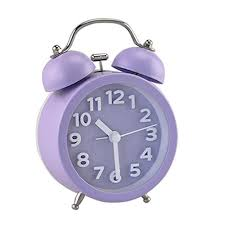alarm_clock: (35, 13, 178, 207), (41, 13, 178, 207)
